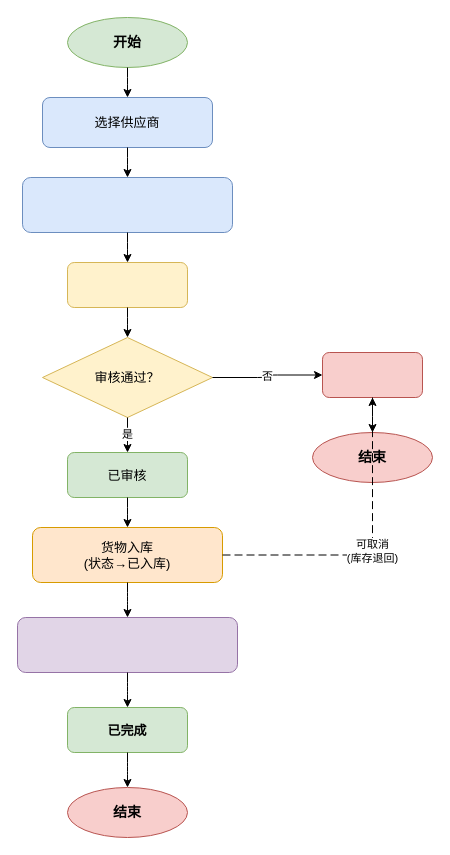
This 450x855 diagram has some shape labels left out. Here are the shapes that lost their labels. From the top down, the box of each, then its label:
(22, 176, 232, 232): 创建采购订单 (新增订单及明细)
(66, 262, 188, 308): 待审核
(322, 352, 422, 398): 已取消
(16, 616, 238, 672): 库存自动增加 (product.stock += qty)
